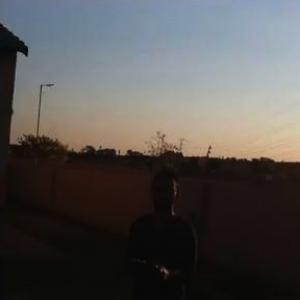follow: (123, 154, 206, 299)
